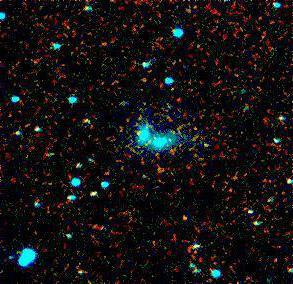star: (169, 208, 199, 238)
